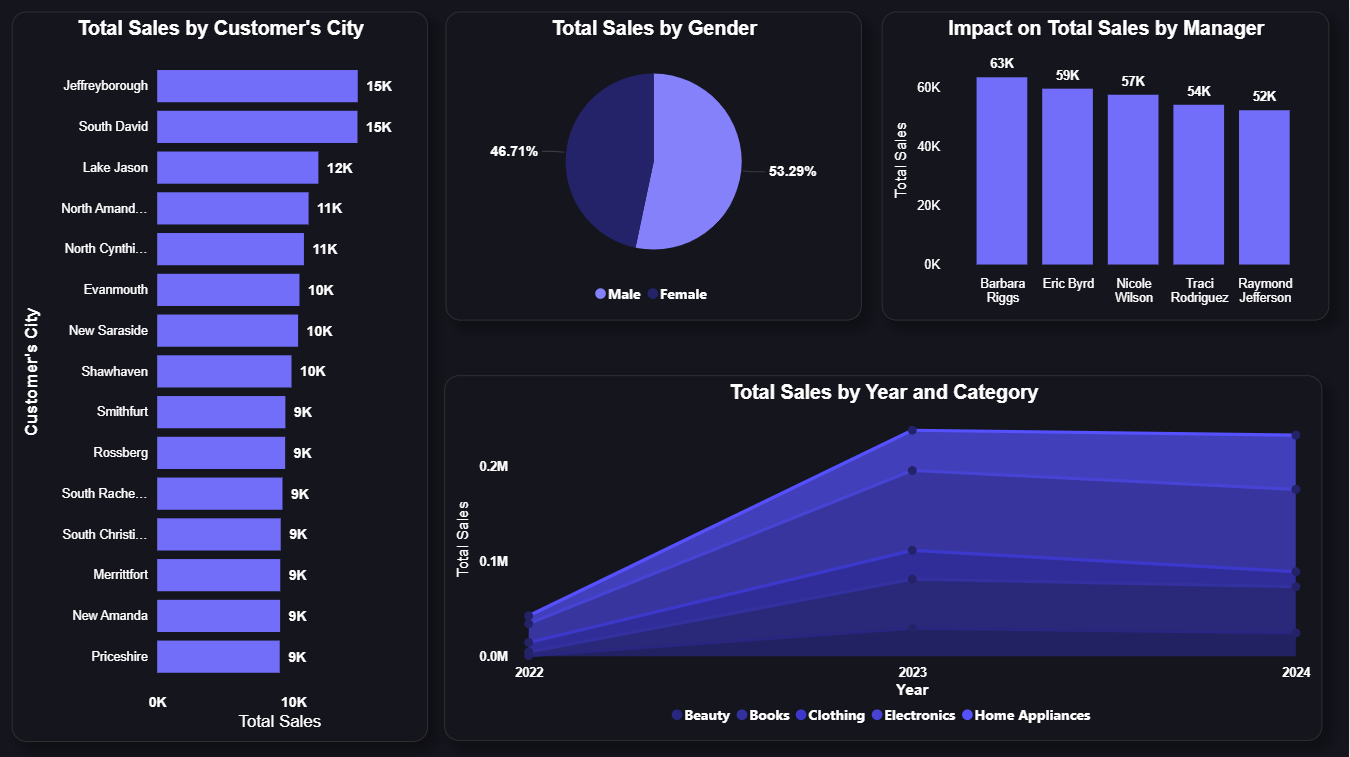

The page's visual inventory and layout, read from the dashboard file:
{"tool":"powerbi","page":{"name":"Customer Shopping Sales Trend Analysis 2","canvas":[1280,720],"ordinal":1},"visuals":[{"type":"barChart","title":"Total Sales by Customer''s City","fields":{"Category":["Customers.City"],"Y":["Sales.Total Sales"]},"box":[12.8,11.3,394.1,691.7],"z":0},{"type":"pieChart","fields":{"Category":["Customers.Gender"],"Y":["Sales.Total Sales"]},"box":[423.9,11.9,394,292.5],"z":1000},{"type":"columnChart","title":" Impact on Total Sales by Manager","fields":{"Category":["Stores.Manager"],"Y":["Sales.Total Sales"]},"box":[837.3,11.9,423.9,292.5],"z":2000},{"type":"stackedAreaChart","fields":{"Y":["Sales.Total Sales"],"Category":["Sales.SaleDate.Variation.Date Hierarchy.Year"],"Series":["Products.Category"]},"box":[423.3,356.7,831.7,346.7],"z":3000}]}

Visuals, with their boxes in screenshot pixels (x1, y1, x2, y2), scaled from the page's 1280x720 canvas onto the 1350x757 screenshot:
"Total Sales by Customer''s City" barChart: BBox(14, 12, 429, 739)
pieChart - Customers.Gender x Sales.Total Sales: BBox(447, 13, 863, 320)
" Impact on Total Sales by Manager" columnChart: BBox(883, 13, 1330, 320)
stackedAreaChart - Sales.Total Sales x Sales.SaleDate.Variation.Date Hierarchy.Year: BBox(446, 375, 1324, 740)
